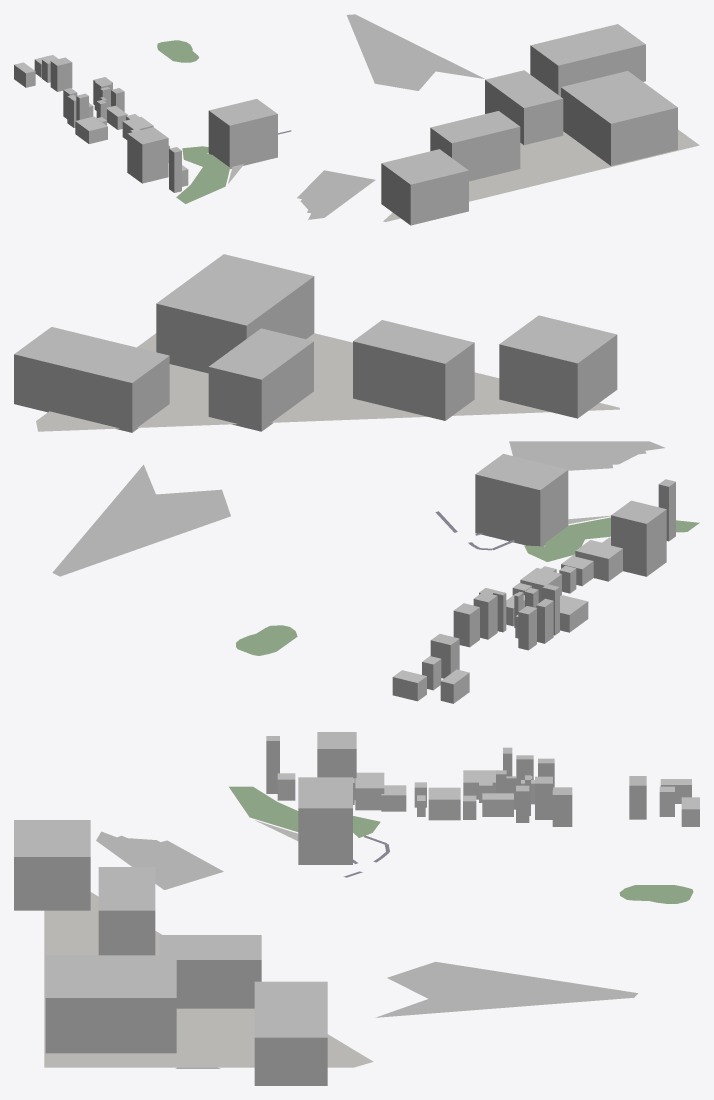
File: 133_85_mid.glb
3 views of the same model, one above another, from view 1: azimuth 30°, elevation 25°; view 2: azimuth 150°, elevation 25°; view 3: azimuth 270°, elevation 25° (orthographic). The views are drawn at different scales.
Bounding box in the file's own units: 540 × 56.32 × 511.
